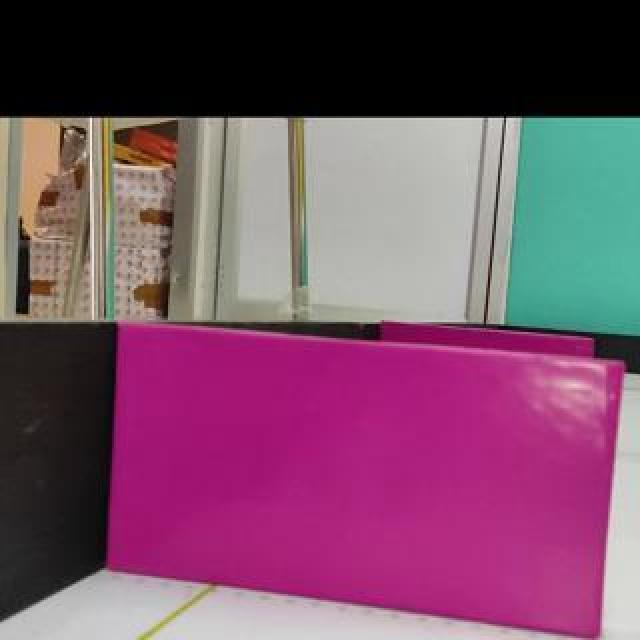xparking: (107, 323, 624, 636), (384, 323, 592, 354)
